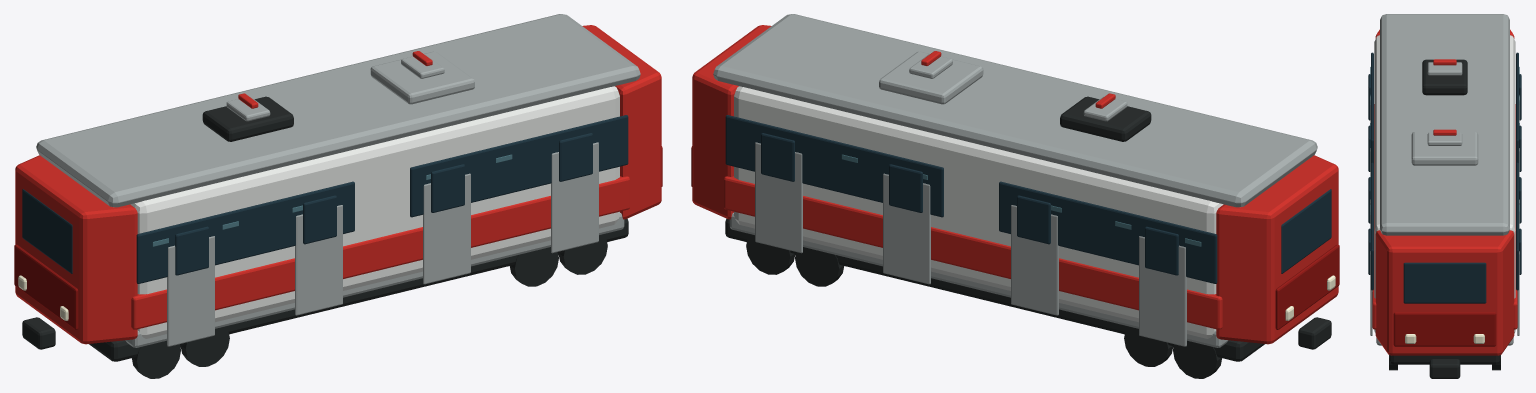
Rendered from munich_sbahn_front.glb.
The picture shows the model from 3 angles, left to right: view 1: azimuth 30°, elevation 25°; view 2: azimuth 150°, elevation 25°; view 3: azimuth 270°, elevation 25°; orthographic projection. The views are drawn at different scales.
Visible parts, largest first — view 1: Munich S-Bahn front roof, Munich S-Bahn front body, Munich S-Bahn front rounded red end -1, Munich S-Bahn front red waist stripe, Munich S-Bahn front rounded red end 1, Munich S-Bahn front door -1 3, Munich S-Bahn front door -1 2, Munich S-Bahn front door -1 0, Munich S-Bahn front door -1 1, Munich S-Bahn front side window -1 1, Munich S-Bahn front side window -1 4, Munich S-Bahn front underframe (+20 smaller); view 2: Munich S-Bahn front roof, Munich S-Bahn front body, Munich S-Bahn front rounded red end -1, Munich S-Bahn front red waist stripe, Munich S-Bahn front rounded red end 1, Munich S-Bahn front door 1 3, Munich S-Bahn front door 1 2, Munich S-Bahn front door 1 0, Munich S-Bahn front door 1 1, Munich S-Bahn front side window 1 4, Munich S-Bahn front side window 1 1, Munich S-Bahn front underframe (+20 smaller); view 3: Munich S-Bahn front roof, Munich S-Bahn front rounded red end 1, Munich S-Bahn front windscreen 1, Munich S-Bahn front red mask 1, Munich S-Bahn front body, Munich S-Bahn front roof fairing, Munich S-Bahn front roof equipment, Munich S-Bahn front underframe, Munich S-Bahn front red waist stripe, Munich S-Bahn front front coupler, Munich S-Bahn front electrical base 1.45, Munich S-Bahn front electrical base -1.55 (+8 smaller).
Part boxes in pixels (x1,y1,x2,y2): Munich S-Bahn front roof: (36,14,640,207); Munich S-Bahn front body: (130,86,619,338); Munich S-Bahn front rounded red end -1: (15,155,137,344); Munich S-Bahn front red waist stripe: (131,176,629,329); Munich S-Bahn front rounded red end 1: (582,25,661,219); Munich S-Bahn front door -1 3: (551,142,598,253); Munich S-Bahn front door -1 2: (423,173,470,284); Munich S-Bahn front door -1 0: (167,236,214,346); Munich S-Bahn front door -1 1: (295,205,342,315); Munich S-Bahn front side window -1 1: (208,199,284,265); Munich S-Bahn front side window -1 4: (482,132,557,200); Munich S-Bahn front underframe: (89,218,628,361); Munich S-Bahn front roof: (713,14,1317,207); Munich S-Bahn front body: (734,86,1223,338); Munich S-Bahn front rounded red end -1: (1216,155,1338,344); Munich S-Bahn front red waist stripe: (724,176,1222,329); Munich S-Bahn front rounded red end 1: (692,25,771,219); Munich S-Bahn front door 1 3: (755,142,802,253); Munich S-Bahn front door 1 2: (883,173,930,284); Munich S-Bahn front door 1 0: (1139,236,1186,346); Munich S-Bahn front door 1 1: (1011,205,1058,315); Munich S-Bahn front side window 1 4: (796,132,871,200); Munich S-Bahn front side window 1 1: (1069,199,1144,265); Munich S-Bahn front underframe: (725,218,1264,361); Munich S-Bahn front roof: (1380,14,1509,235); Munich S-Bahn front rounded red end 1: (1375,230,1514,355); Munich S-Bahn front windscreen 1: (1403,262,1486,303); Munich S-Bahn front red mask 1: (1393,312,1496,346); Munich S-Bahn front body: (1374,35,1515,333); Munich S-Bahn front roof fairing: (1411,132,1478,165); Munich S-Bahn front roof equipment: (1422,59,1467,95); Munich S-Bahn front underframe: (1389,355,1500,364); Munich S-Bahn front red waist stripe: (1372,104,1517,329); Munich S-Bahn front front coupler: (1429,359,1460,378); Munich S-Bahn front electrical base 1.45: (1427,132,1462,145); Munich S-Bahn front electrical base -1.55: (1427,62,1462,75).
Size of the model in its own units: 10.6 by 3.7 by 2.77.
